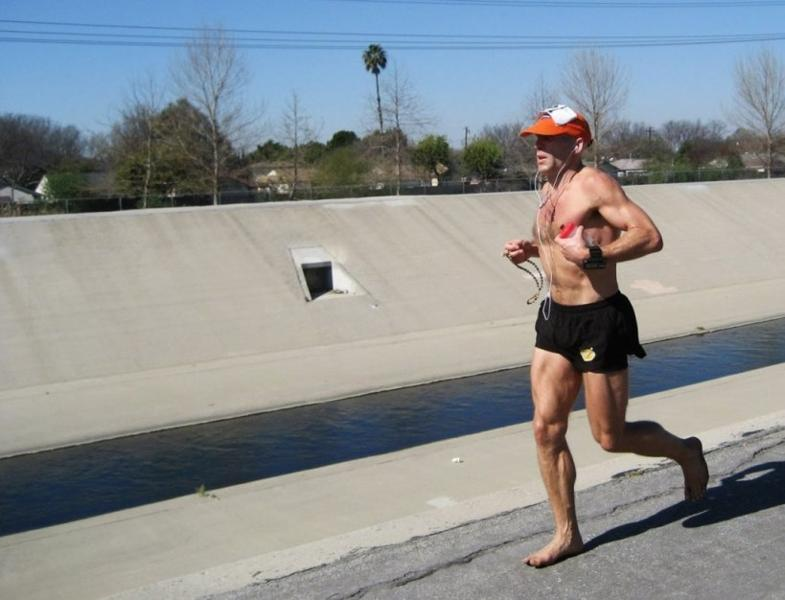person: (502, 100, 712, 568)
